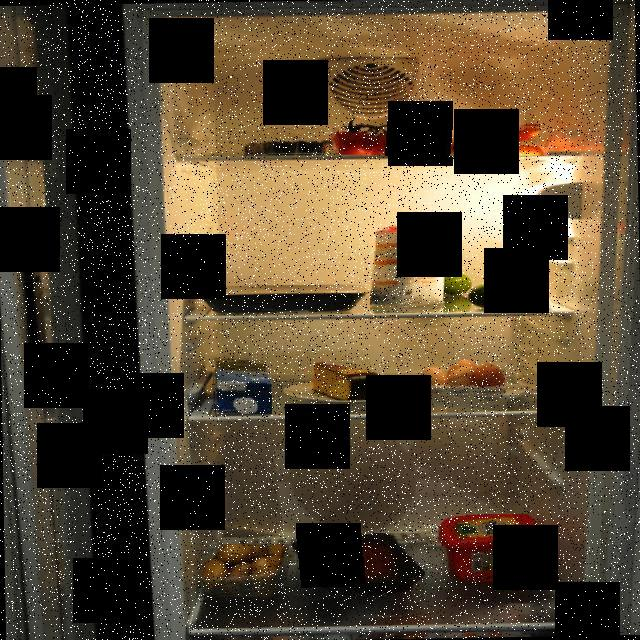beef: (289, 533, 426, 601)
blueberries: (233, 126, 339, 156)
butter: (438, 514, 544, 584)
carrot: (424, 122, 550, 156)
cheese: (302, 358, 384, 402)
eggs: (417, 359, 507, 401)
lime: (422, 269, 551, 311)
milk: (212, 353, 272, 414)
potato: (200, 544, 290, 598)
sugar: (370, 222, 447, 310)
tomato: (330, 114, 424, 156)
